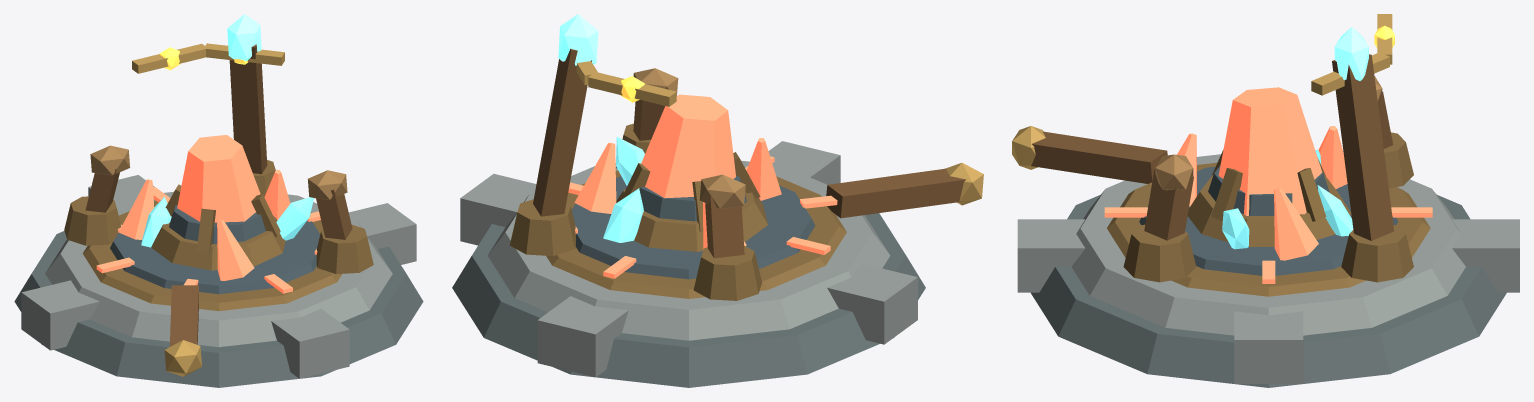
File: ward_critical.glb
3 renders of one model, left to right at view 1: azimuth 30°, elevation 25°; view 2: azimuth 150°, elevation 25°; view 3: azimuth 270°, elevation 25°, orthographic. The views are drawn at different scales.
Parts seen in each view (by area): view 1: Ward_Foundation_Base.003, Ward_Foundation_Upper.003, Ward_Foundation_Core.003, Ward_Crystal_Remainder, Ward_Foundation_Inlay.003, Ward_Foundation_Buttress_4.003, Ward_Foundation_Buttress_3.003, Ward_Support_1.002, Ward_Foundation_Socket.003, Ward_Foundation_Buttress_1.003, Ward_Support_Foot_4.001, Ward_Support_Foot_2.002 (+19 smaller); view 2: Ward_Foundation_Base.003, Ward_Foundation_Upper.003, Ward_Foundation_Core.003, Ward_Crystal_Remainder, Ward_Foundation_Inlay.003, Ward_Foundation_Buttress_2.003, Ward_Support_1.002, Ward_Foundation_Buttress_3.003, Ward_Fallen_Support_3, Ward_Foundation_Buttress_1.003, Ward_Foundation_Socket.003, Ward_Support_Foot_2.002 (+16 smaller); view 3: Ward_Foundation_Base.003, Ward_Foundation_Upper.003, Ward_Crystal_Remainder, Ward_Support_1.002, Ward_Foundation_Inlay.003, Ward_Foundation_Buttress_1.003, Ward_Foundation_Core.003, Ward_Fallen_Support_3, Ward_Foundation_Buttress_4.003, Ward_Foundation_Buttress_2.003, Ward_Support_Foot_4.001, Ward_Support_Foot_1.002 (+19 smaller).
Part boxes in pixels (<box>): Ward_Foundation_Base.003: <box>14,231,423,387</box>; Ward_Foundation_Upper.003: <box>45,191,392,347</box>; Ward_Foundation_Core.003: <box>110,221,320,294</box>; Ward_Crystal_Remainder: <box>177,135,260,222</box>; Ward_Foundation_Inlay.003: <box>82,200,341,310</box>; Ward_Foundation_Buttress_4.003: <box>271,308,349,378</box>; Ward_Foundation_Buttress_3.003: <box>21,280,99,350</box>; Ward_Support_1.002: <box>229,44,267,173</box>; Ward_Foundation_Socket.003: <box>151,216,285,270</box>; Ward_Foundation_Buttress_1.003: <box>348,203,416,264</box>; Ward_Support_Foot_4.001: <box>316,224,373,273</box>; Ward_Support_Foot_2.002: <box>64,196,120,245</box>; Ward_Foundation_Base.003: <box>452,213,925,387</box>; Ward_Foundation_Upper.003: <box>487,160,890,340</box>; Ward_Foundation_Core.003: <box>571,176,815,279</box>; Ward_Crystal_Remainder: <box>641,94,735,198</box>; Ward_Foundation_Inlay.003: <box>546,170,846,298</box>; Ward_Foundation_Buttress_2.003: <box>537,296,628,377</box>; Ward_Support_1.002: <box>533,48,591,216</box>; Ward_Foundation_Buttress_3.003: <box>827,263,917,344</box>; Ward_Fallen_Support_3: <box>826,168,966,218</box>; Ward_Foundation_Buttress_1.003: <box>460,174,536,245</box>; Ward_Foundation_Socket.003: <box>610,189,767,251</box>; Ward_Support_Foot_2.002: <box>693,245,761,300</box>; Ward_Foundation_Base.003: <box>1031,195,1506,387</box>; Ward_Foundation_Upper.003: <box>1071,154,1465,335</box>; Ward_Crystal_Remainder: <box>1218,87,1322,215</box>; Ward_Support_1.002: <box>1332,54,1394,240</box>; Ward_Foundation_Inlay.003: <box>1107,162,1430,296</box>; Ward_Foundation_Buttress_1.003: <box>1234,311,1303,383</box>; Ward_Foundation_Core.003: <box>1139,166,1398,275</box>; Ward_Fallen_Support_3: <box>1031,131,1167,183</box>; Ward_Foundation_Buttress_4.003: <box>1017,219,1085,292</box>; Ward_Foundation_Buttress_2.003: <box>1452,219,1519,292</box>; Ward_Support_Foot_4.001: <box>1123,224,1196,282</box>; Ward_Support_Foot_1.002: <box>1341,225,1413,282</box>.
Bounding box in the file's own units: 2.48 × 1.6 × 2.51.
